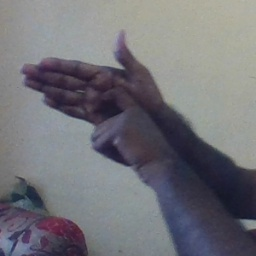R: (20, 28, 172, 165)
